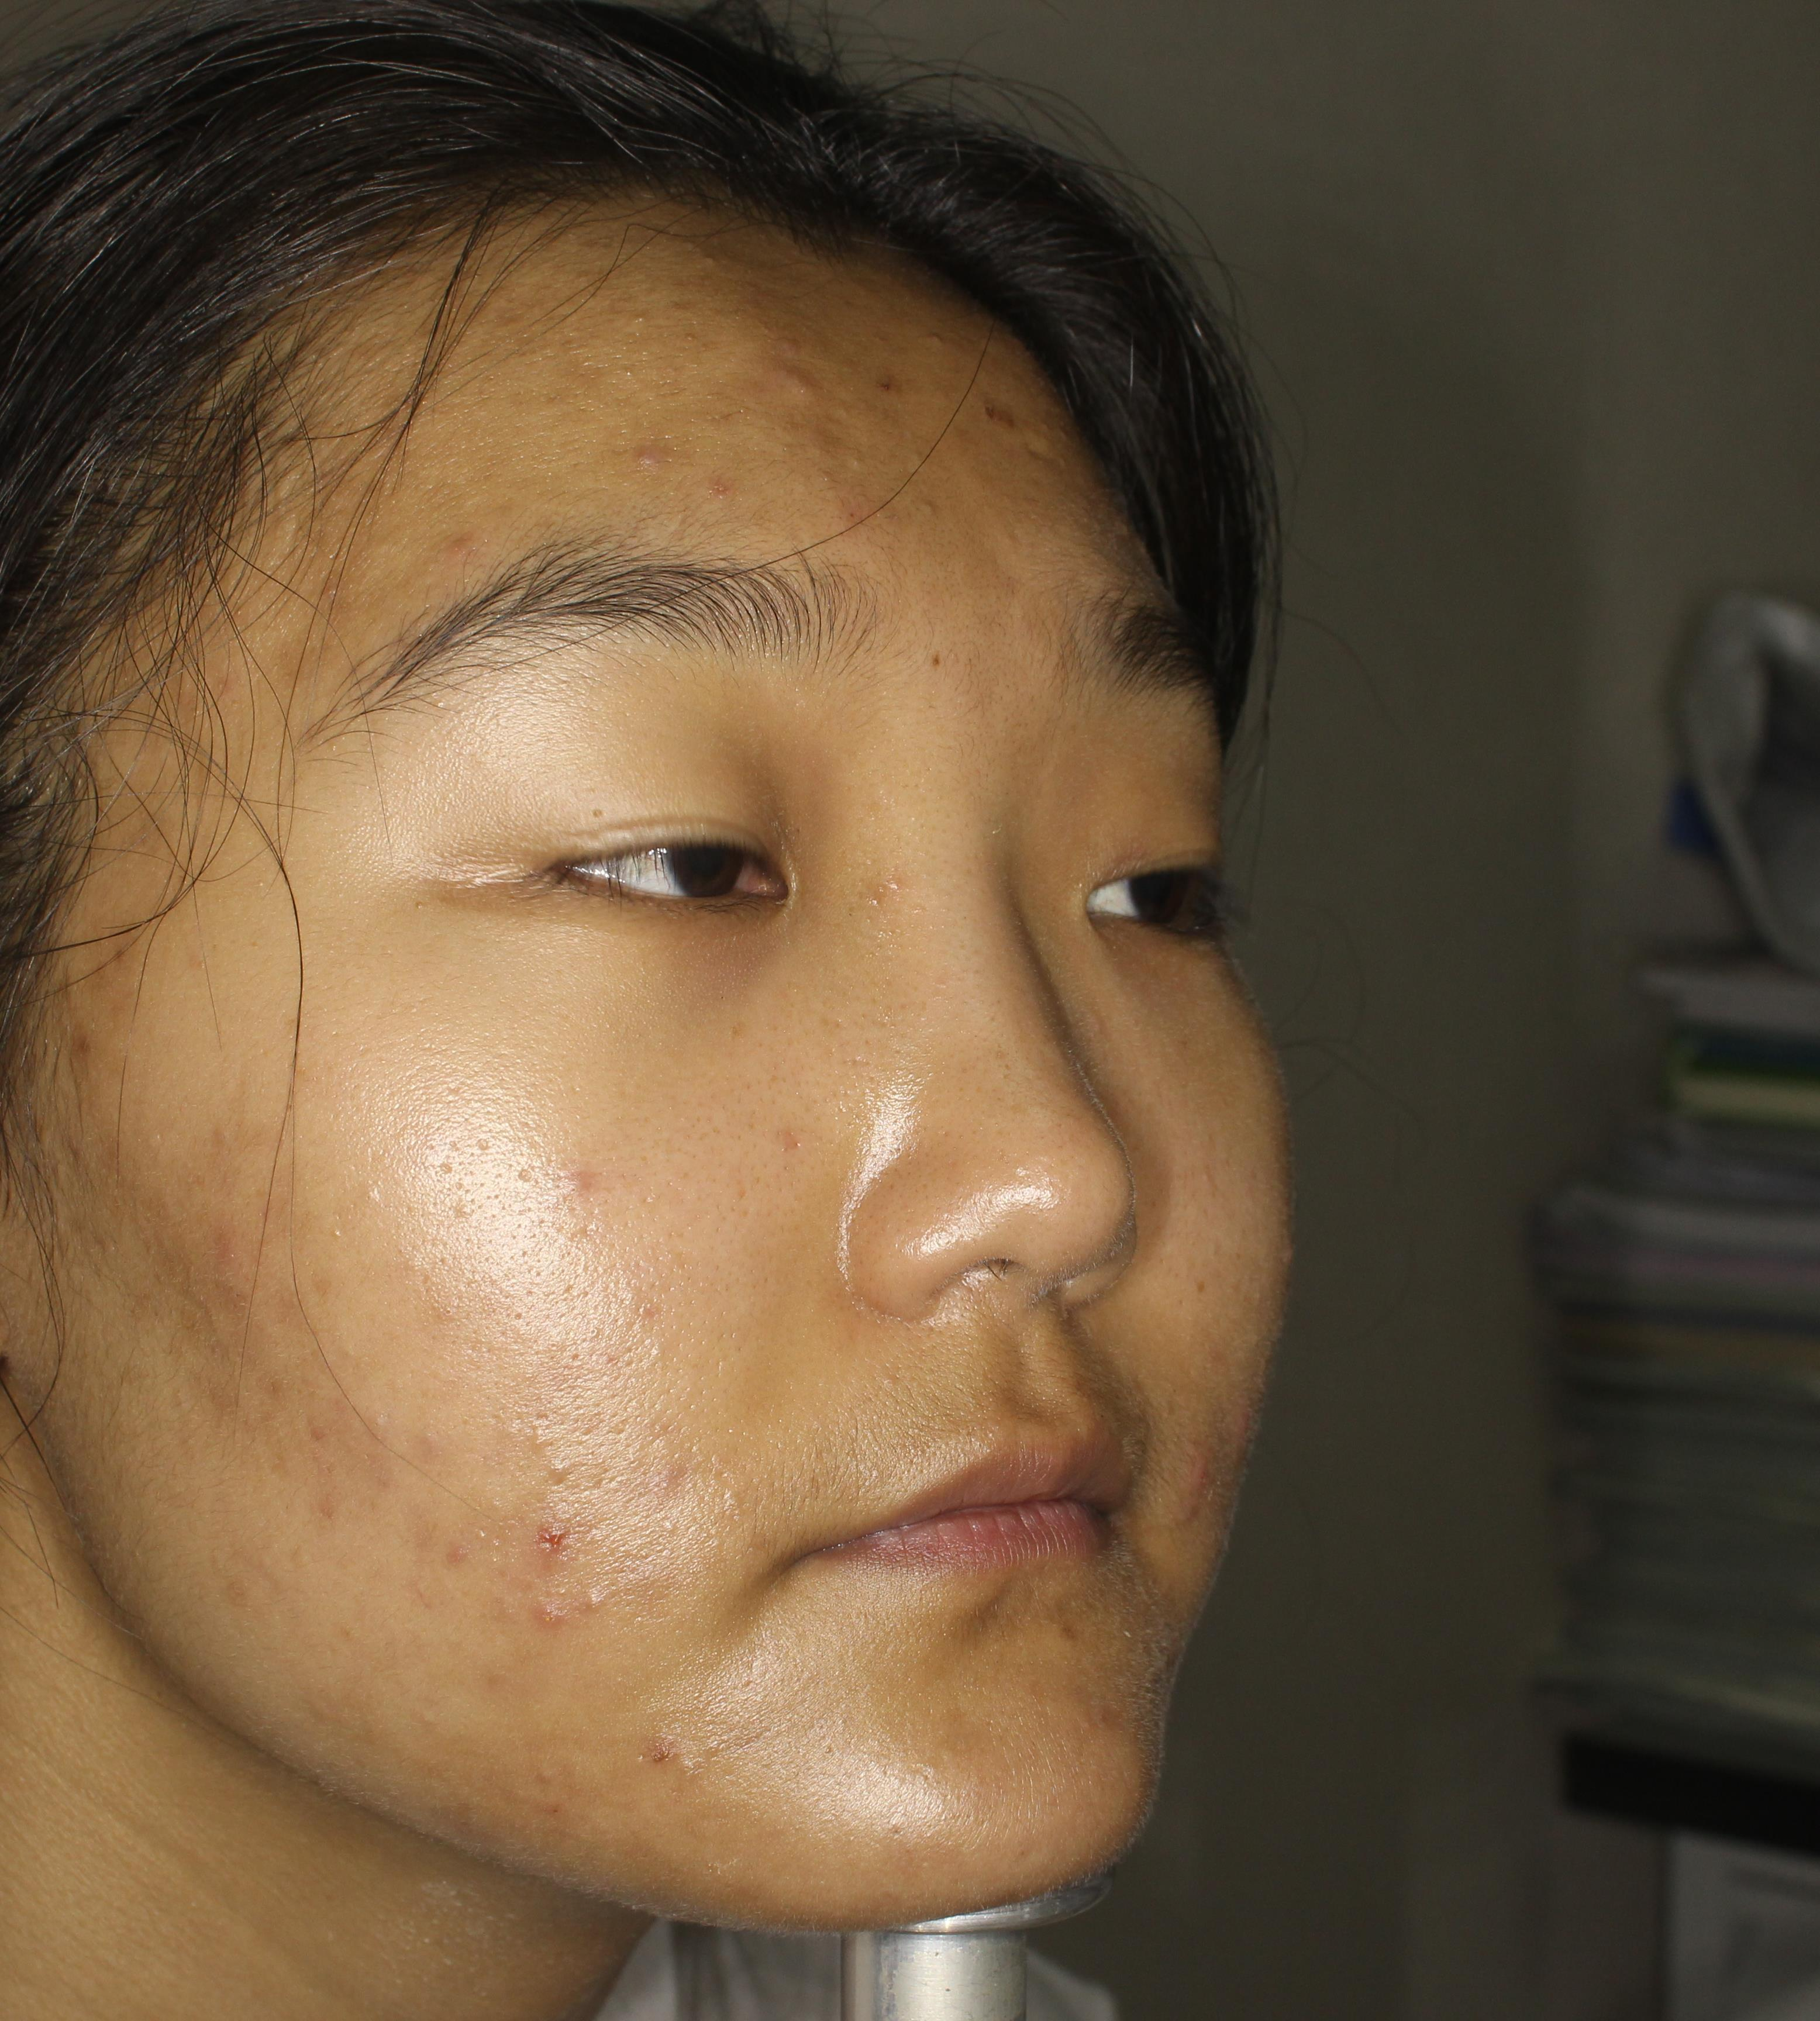fore: (413, 506, 508, 604), (731, 344, 820, 414), (511, 1563, 592, 1638), (337, 1392, 401, 1482), (502, 1500, 597, 1557), (60, 1008, 126, 1075), (199, 1222, 271, 1266), (638, 428, 696, 478)
